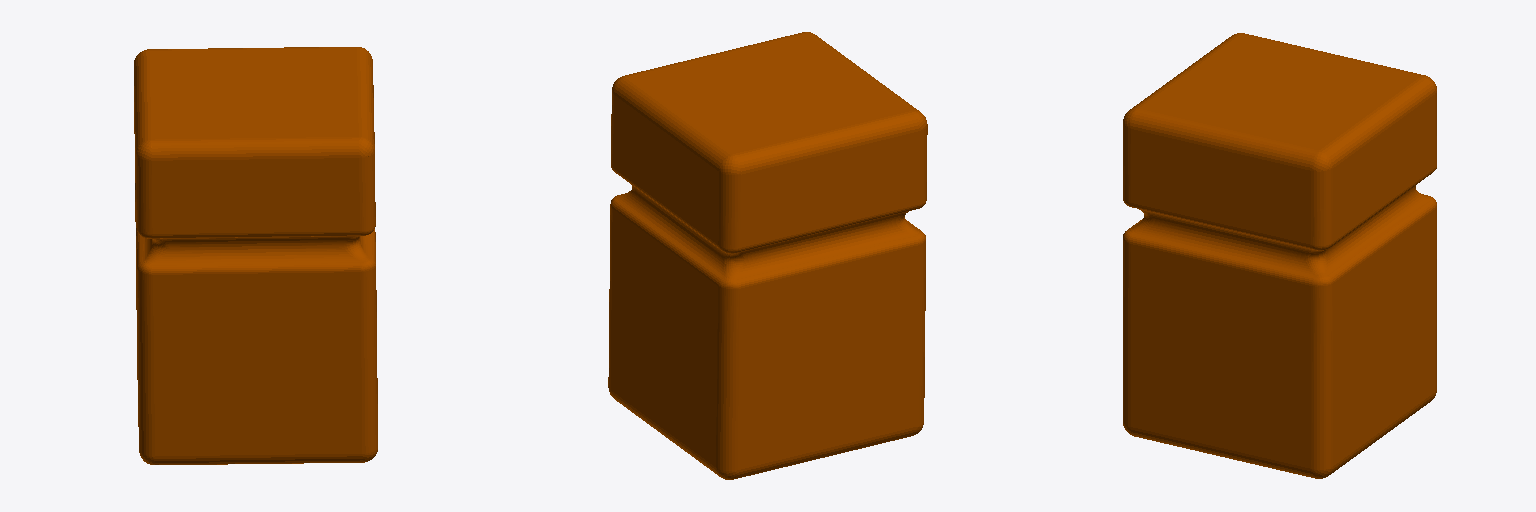
The model's file is petit-carree-jaune.obj.
3 views of the same model, side by side, from view 1: azimuth 30°, elevation 25°; view 2: azimuth 150°, elevation 25°; view 3: azimuth 270°, elevation 25° (orthographic).
Parts seen in each view (by area): view 1: quarto-pieces.008; view 2: quarto-pieces.008; view 3: quarto-pieces.008.
Boxes of the visible parts, x1,y1,x2,y2 form: quarto-pieces.008: [134, 47, 377, 464]; quarto-pieces.008: [608, 32, 927, 479]; quarto-pieces.008: [1123, 33, 1436, 478].
Size of the model in its own units: 39.9 by 45.42 by 39.43.